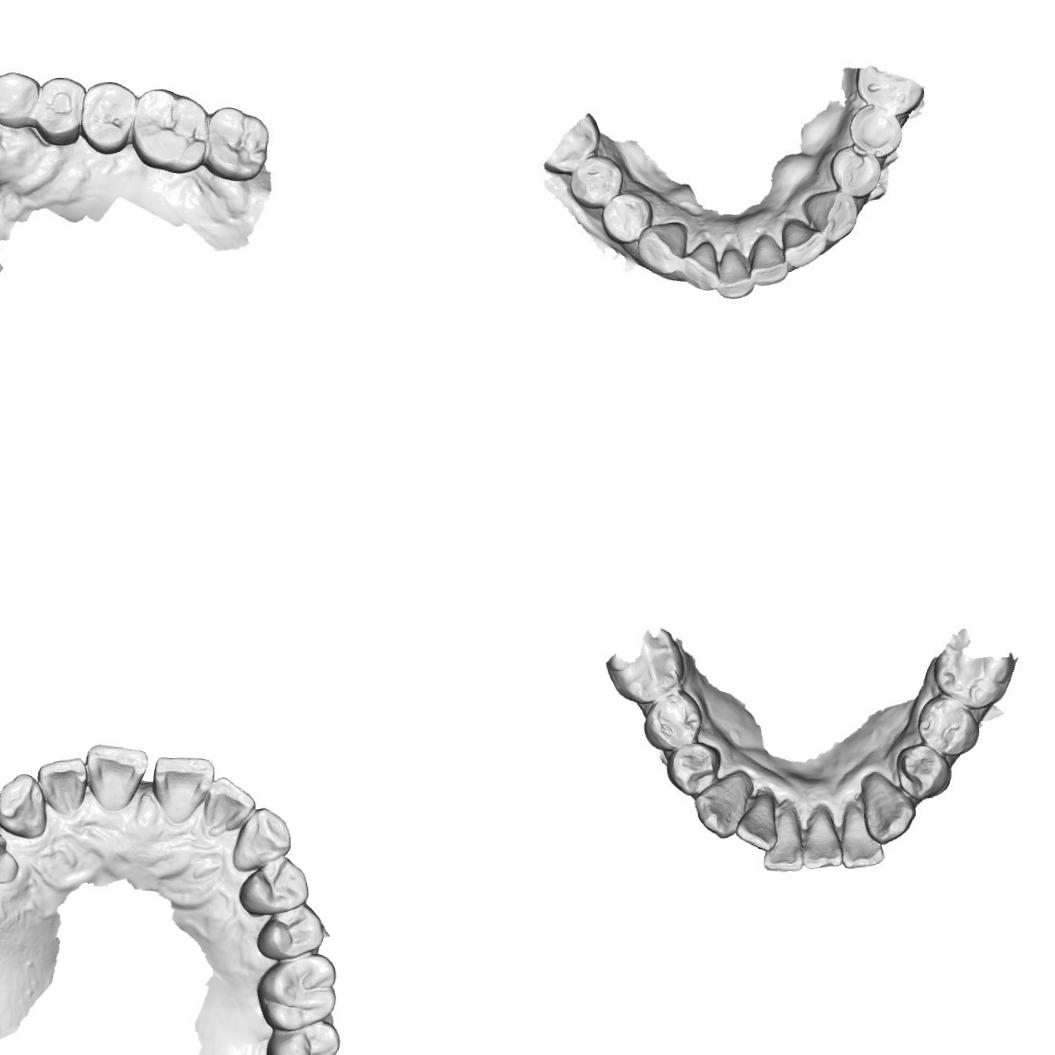canine: (229, 804, 294, 872), (860, 772, 918, 846), (693, 770, 750, 840), (0, 771, 48, 843), (801, 185, 858, 242), (0, 69, 38, 132), (640, 221, 686, 269)
incisor: (151, 753, 219, 825), (84, 741, 150, 812), (200, 774, 259, 836), (36, 754, 91, 818), (838, 802, 885, 870), (761, 804, 806, 872), (734, 789, 774, 858), (800, 804, 838, 874), (678, 238, 724, 294), (715, 247, 759, 303), (781, 219, 828, 271), (748, 235, 790, 287)
molar: (128, 84, 212, 178), (252, 951, 340, 1033), (604, 631, 683, 706), (203, 103, 274, 184), (934, 633, 1011, 700), (263, 1020, 345, 1055)
premolar: (78, 78, 143, 156), (236, 854, 310, 918), (253, 902, 326, 961), (32, 76, 89, 146), (640, 687, 703, 749), (917, 693, 976, 758), (664, 736, 723, 799), (844, 102, 905, 161), (892, 742, 950, 801), (826, 144, 884, 200), (568, 151, 622, 211), (600, 192, 652, 247), (0, 814, 20, 887)
